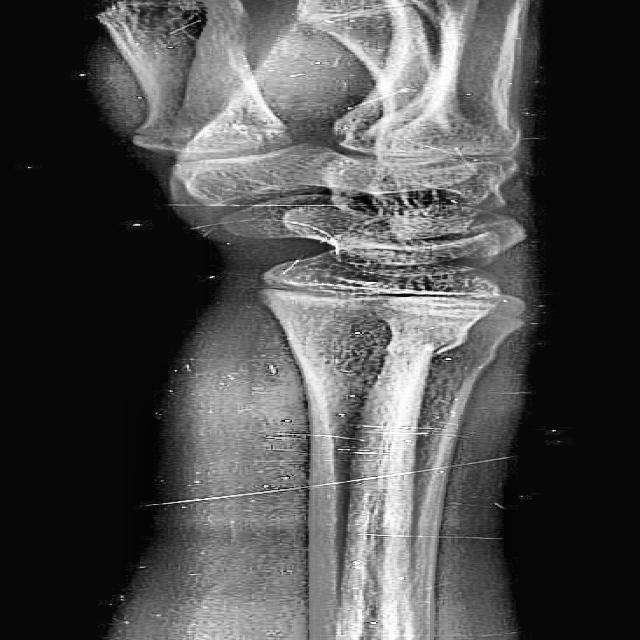line: (128, 128, 185, 144), (406, 340, 453, 357)
